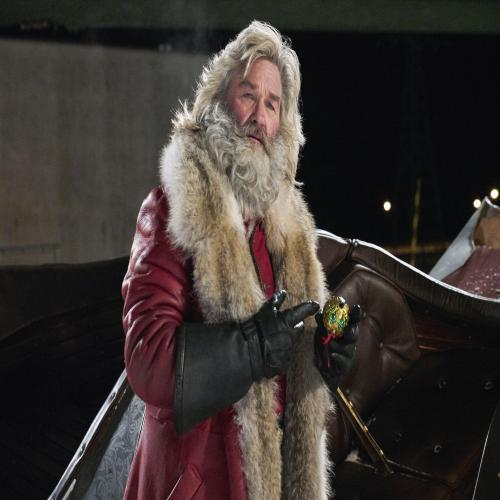Santa: (120, 22, 335, 500)
